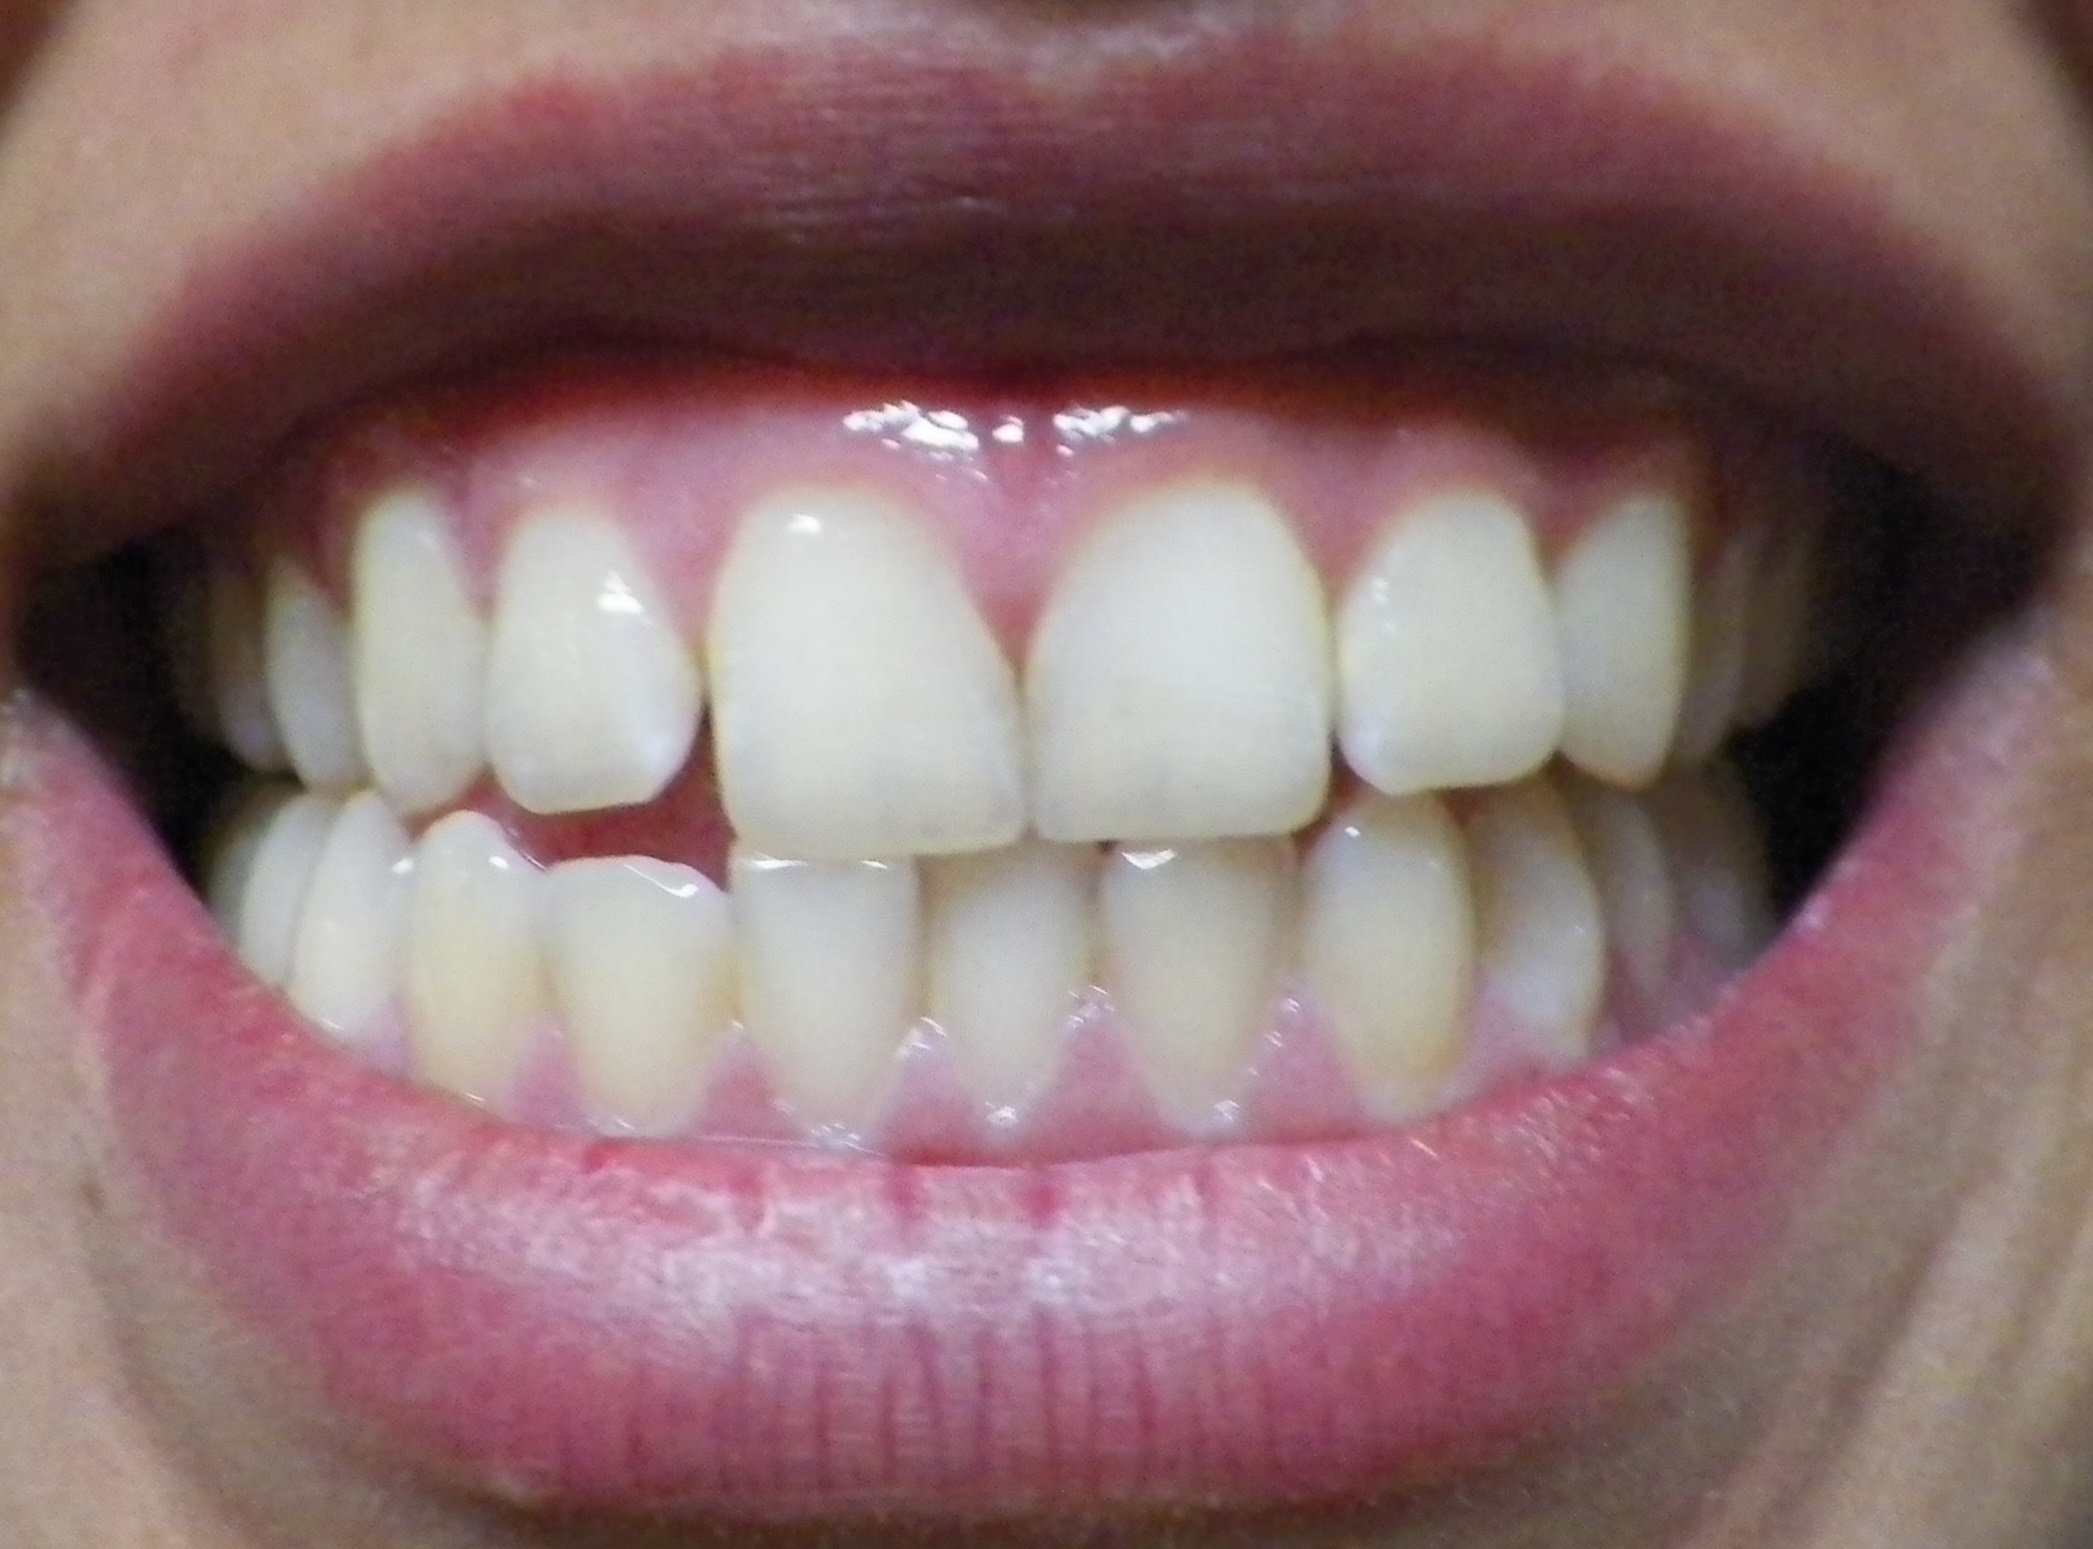boca: (138, 501, 1890, 1136)
